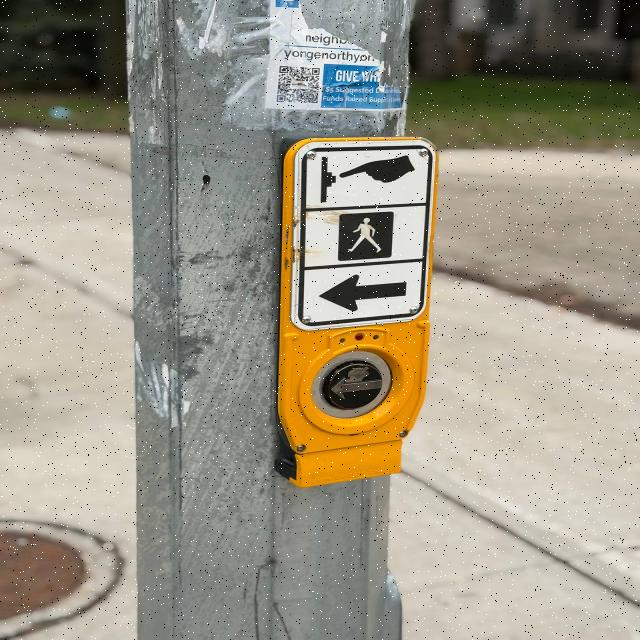Electrical Pole: (123, 0, 446, 640)
